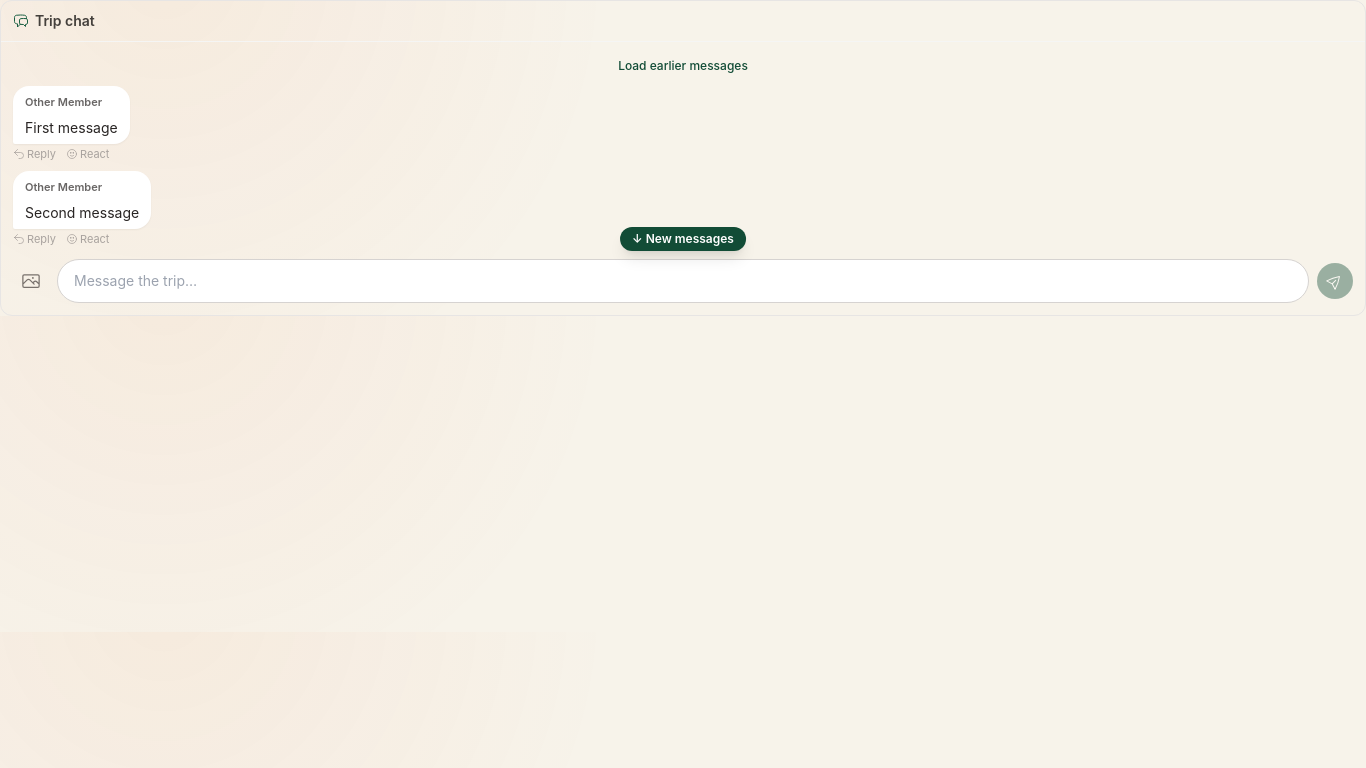
Test case: TripChatPanel › does not yank the scroll position back to the bottom when a poll brings new messages while scrolled up
The width and height of the screenshot is (1366, 768).
expect the text "First message" is shown: met, box 25,119 -> 118,136
expect the text "Second message" is shown: met, box 25,204 -> 139,220
Click the button "↓ New messages". click: click(683, 239)
box: 620,227 -> 746,251
Wait 50 ms
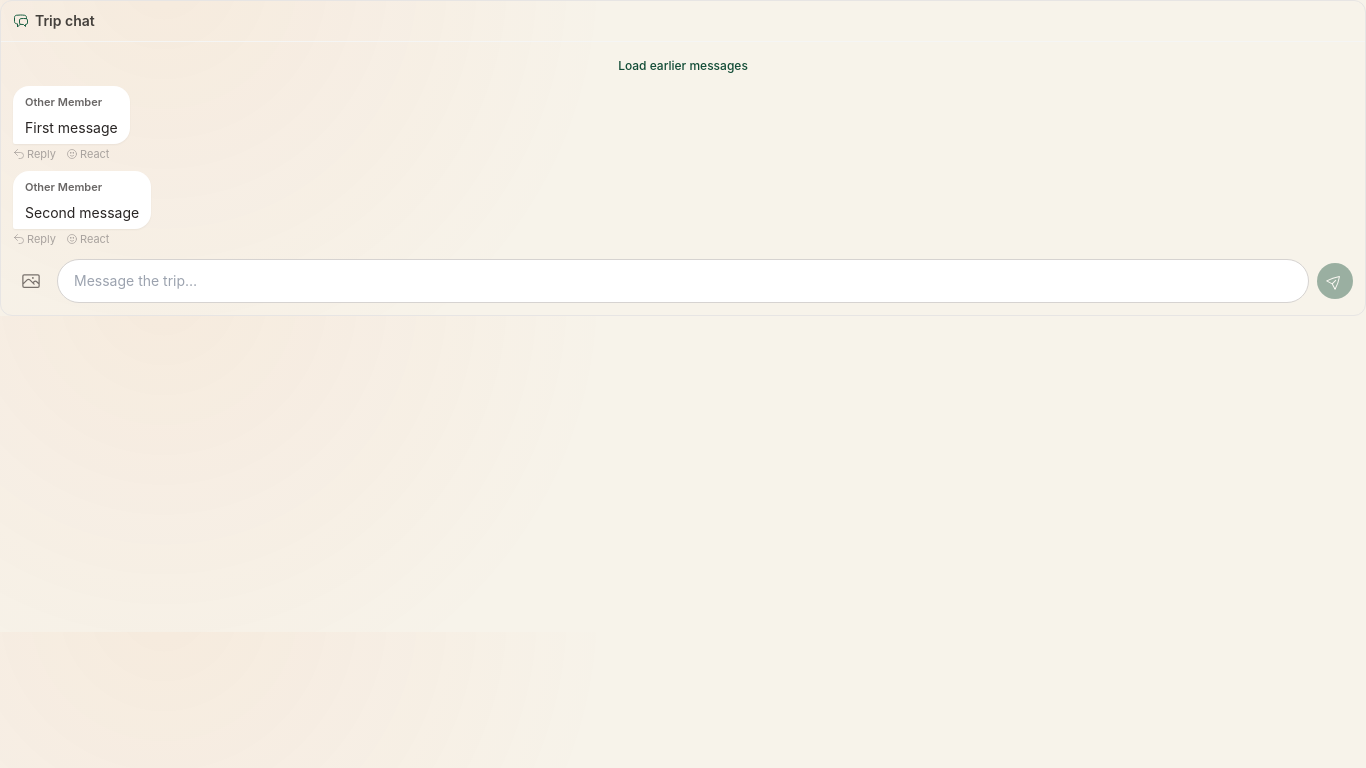
expect the button "New messages" is gone: met
